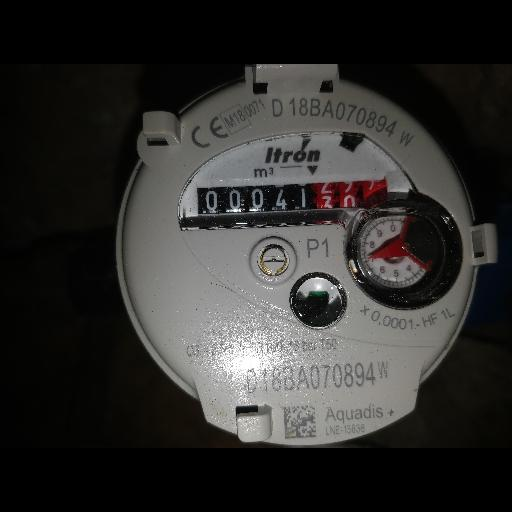0: (202, 188, 223, 215), (247, 186, 267, 213), (225, 187, 245, 213)
1: (293, 184, 311, 211)
2: (317, 183, 336, 210)
4: (270, 185, 290, 212)
9: (361, 177, 389, 210), (339, 182, 358, 209)
border_water_meter_number: (197, 176, 389, 221)
